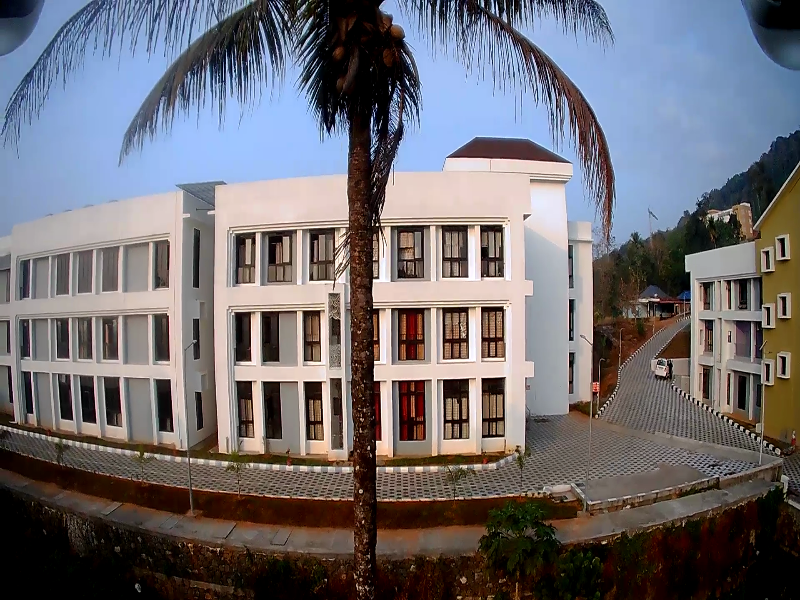coconut: (381, 20, 408, 40), (328, 45, 353, 62), (379, 47, 396, 67), (330, 73, 347, 91)
